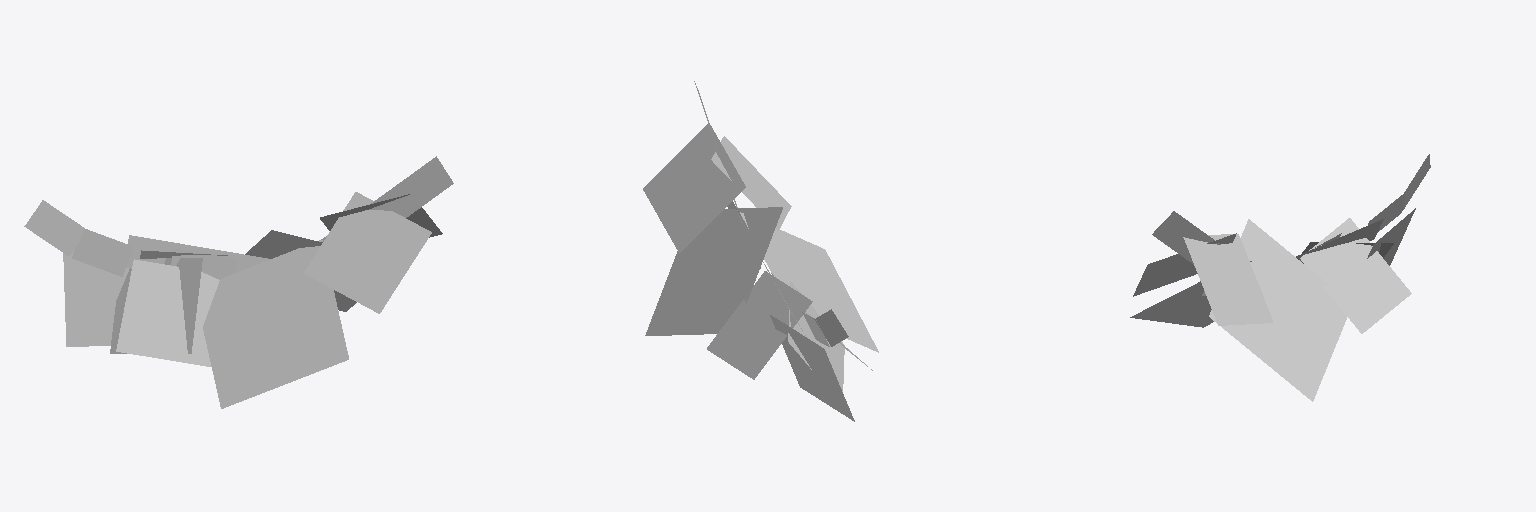
The model's file is spruce_long_branch_3_top.obj.
3 renders of one model, left to right at view 1: azimuth 30°, elevation 25°; view 2: azimuth 150°, elevation 25°; view 3: azimuth 270°, elevation 25°, orthographic.
Parts seen in each view (by area): view 1: cube.005, cube.011, cube.008, cube.007, cube.010, cube.004, cube.002, cube.001, cube, cube.009, cube.003, cube.012; view 2: cube.009, cube.012, cube.006, cube.005, cube.007, cube.011, cube.004, cube.002; view 3: cube.009, cube.006, cube.012, cube.005, cube.011, cube.010, cube.007, cube.
Part boxes in pixels (x1,y1,x2,y2): cube.005: (203, 240, 348, 408); cube.011: (304, 192, 431, 313); cube.008: (116, 259, 219, 366); cube.007: (63, 249, 129, 346); cube.010: (321, 156, 453, 241); cube.004: (110, 258, 202, 353); cube.002: (24, 200, 83, 256); cube.001: (72, 228, 132, 276); cube: (126, 235, 269, 272); cube.009: (245, 230, 356, 311); cube.003: (171, 249, 236, 279); cube.012: (320, 194, 442, 237); cube.009: (645, 207, 782, 335); cube.012: (643, 123, 745, 253); cube.006: (707, 271, 812, 379); cube.005: (740, 212, 878, 352); cube.007: (770, 315, 854, 421); cube.011: (711, 136, 791, 230); cube.004: (788, 281, 844, 391); cube.002: (814, 309, 848, 346); cube.009: (1209, 219, 1346, 401); cube.006: (1300, 218, 1411, 333); cube.012: (1183, 234, 1273, 325); cube.005: (1130, 261, 1251, 327); cube.011: (1133, 233, 1236, 296); cube.010: (1152, 211, 1220, 264); cube.007: (1367, 208, 1415, 265); cube: (1296, 219, 1383, 263).
Size of the model in its own units: 2.06 by 1.36 by 1.72.